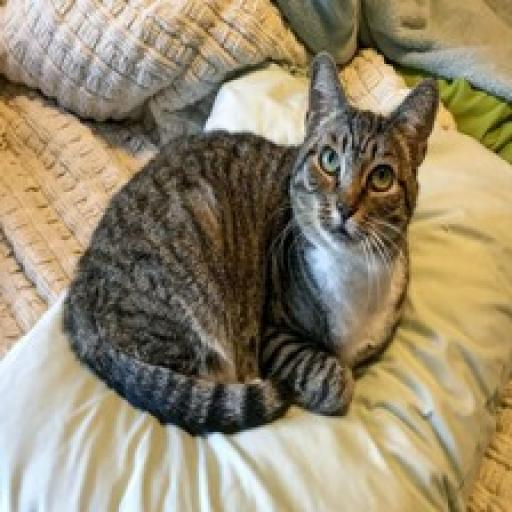cat: (56, 67, 449, 436)
